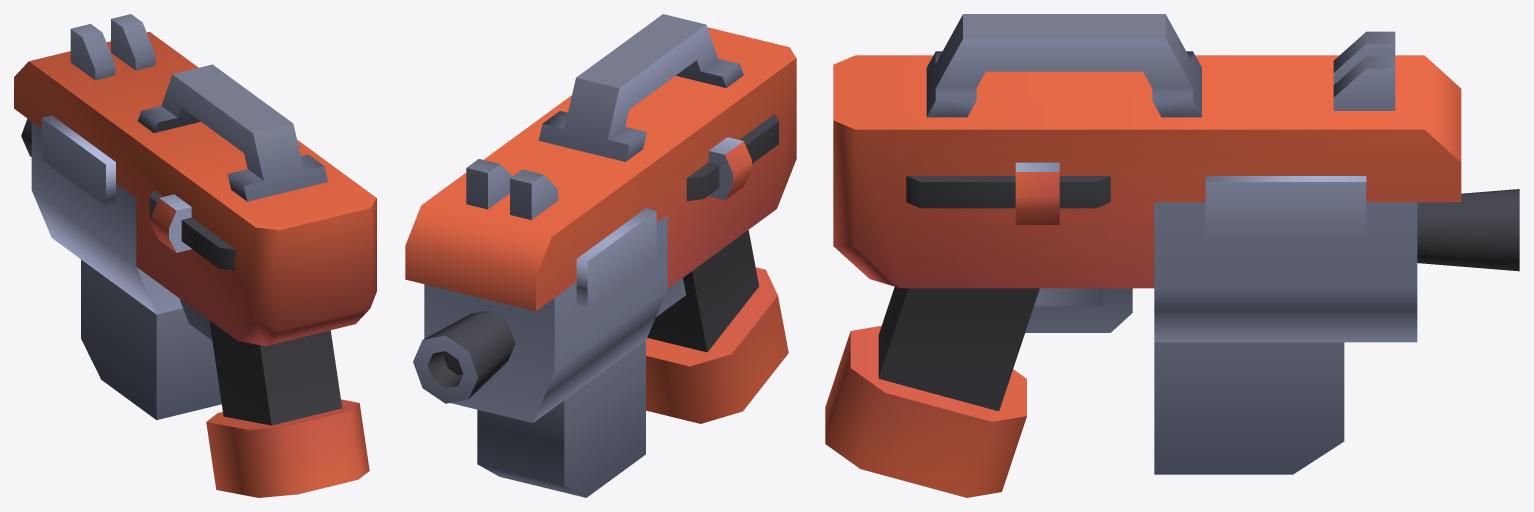
The model's file is kenney-blaster-blaster-c.glb.
3 renders of one model, left to right at view 1: azimuth 30°, elevation 25°; view 2: azimuth 150°, elevation 25°; view 3: azimuth 270°, elevation 25°, orthographic. The views are drawn at different scales.
Parts seen in each view (by area): view 1: blaster-c; view 2: blaster-c; view 3: blaster-c.
Part boxes in pixels (bbox=[...]): blaster-c: bbox=[14, 14, 376, 497]; blaster-c: bbox=[405, 14, 796, 497]; blaster-c: bbox=[825, 14, 1519, 497].
Bounding box in the file's own units: 0.165 × 0.3379 × 0.4754.
Materials: 1 (1 with a texture image).
